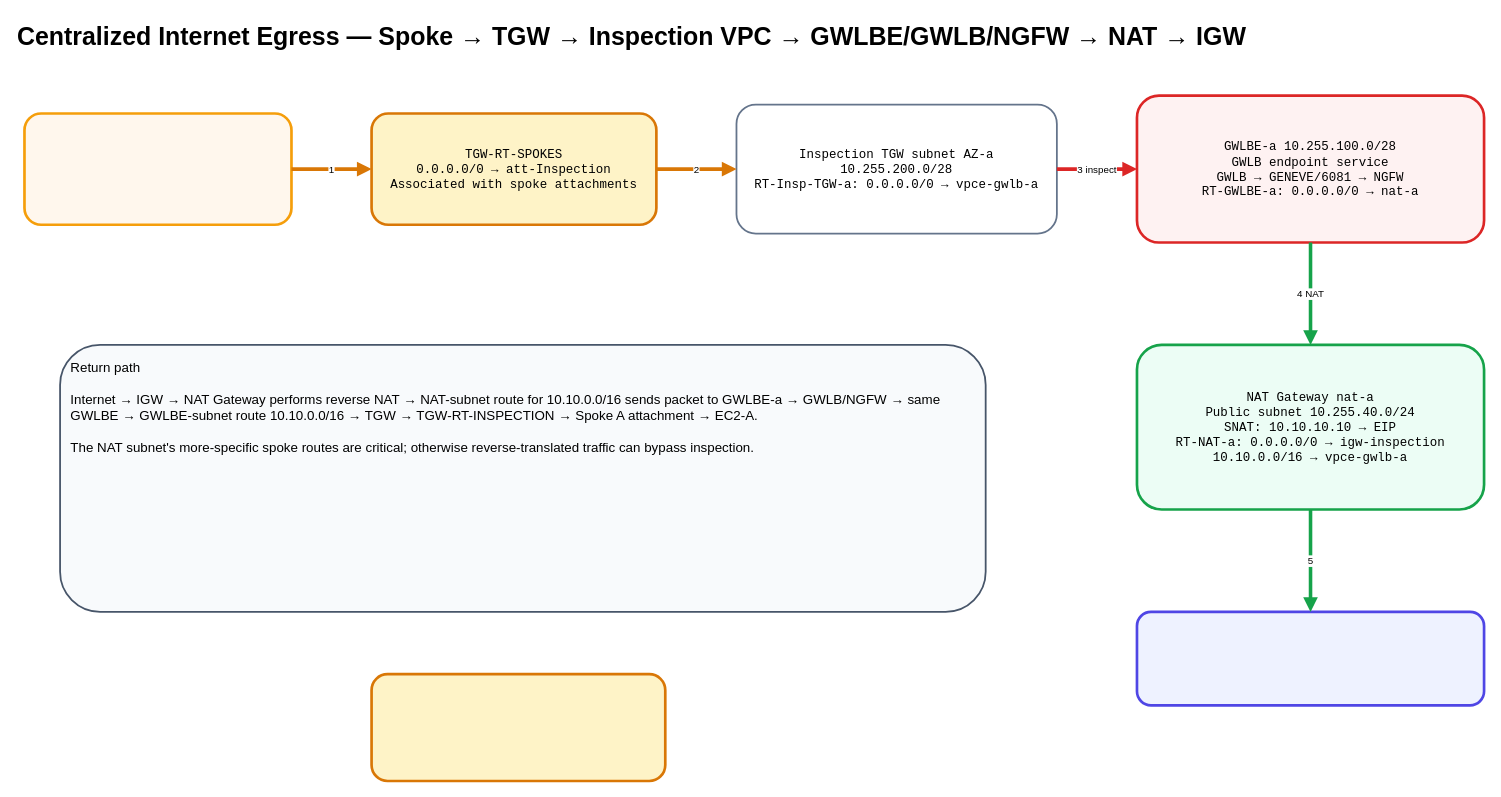
Image size: 1501x797. Some labels were removed from this diagram. The shapes that lost their labels are listed below. From the top down, each one's box as (x1, y1, x2, y2) in pixels, then its label:
(23, 112, 292, 226): Spoke A 10.10.0.0/16 EC2-A 10.10.10.10 RT-A-App: 0.0.0.0/0 → tgw-1
(1135, 610, 1485, 706): Internet Gateway → Internet 1.1.1.1:443
(370, 672, 666, 782): TGW-RT-INSPECTION 10.10.0.0/16 → att-Spoke-A 10.20.0.0/16 → att-Spoke-B
